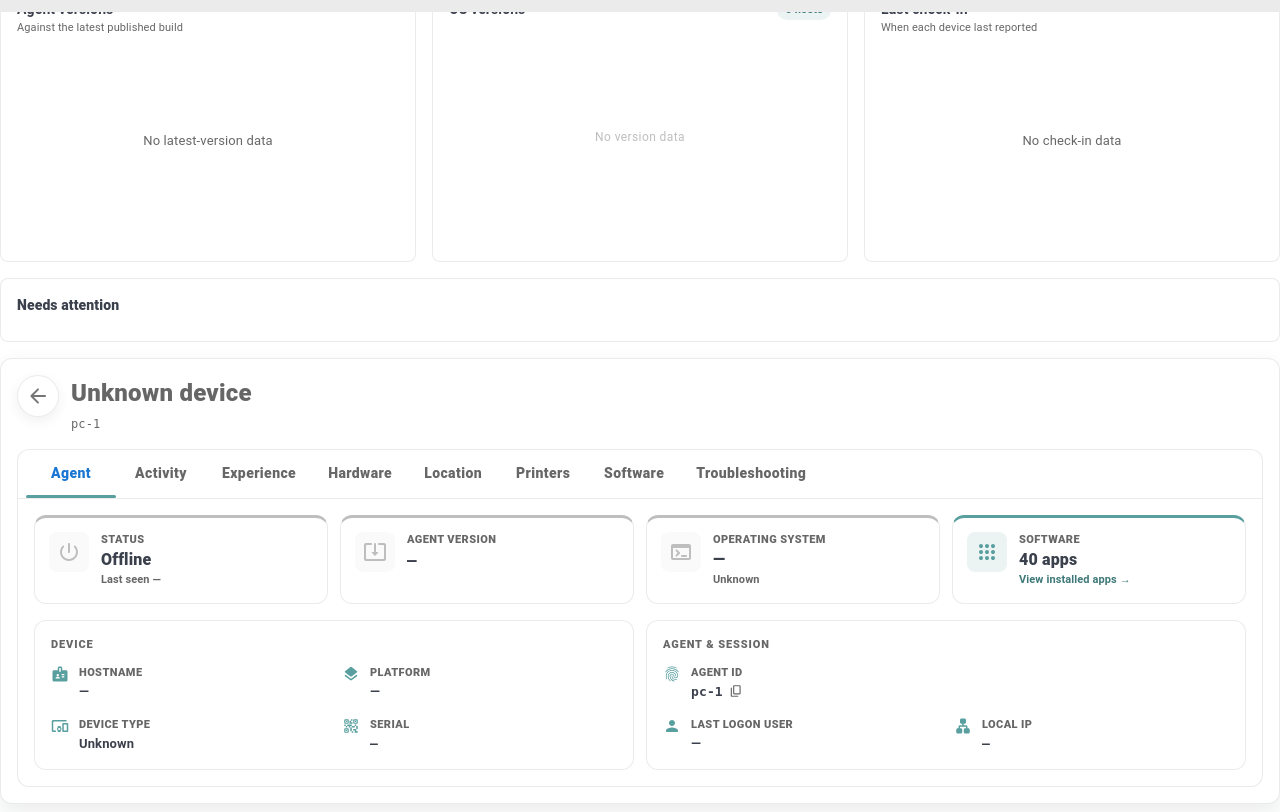
Test case: Ficha › Software — orden, búsqueda y 15 filas en el servidor › ⭐ la búsqueda viaja al servidor y el chip dice cuántas coinciden
(page scrolled)
Click the tab "Software". click: (634, 474)
box: [588,450,680,498]
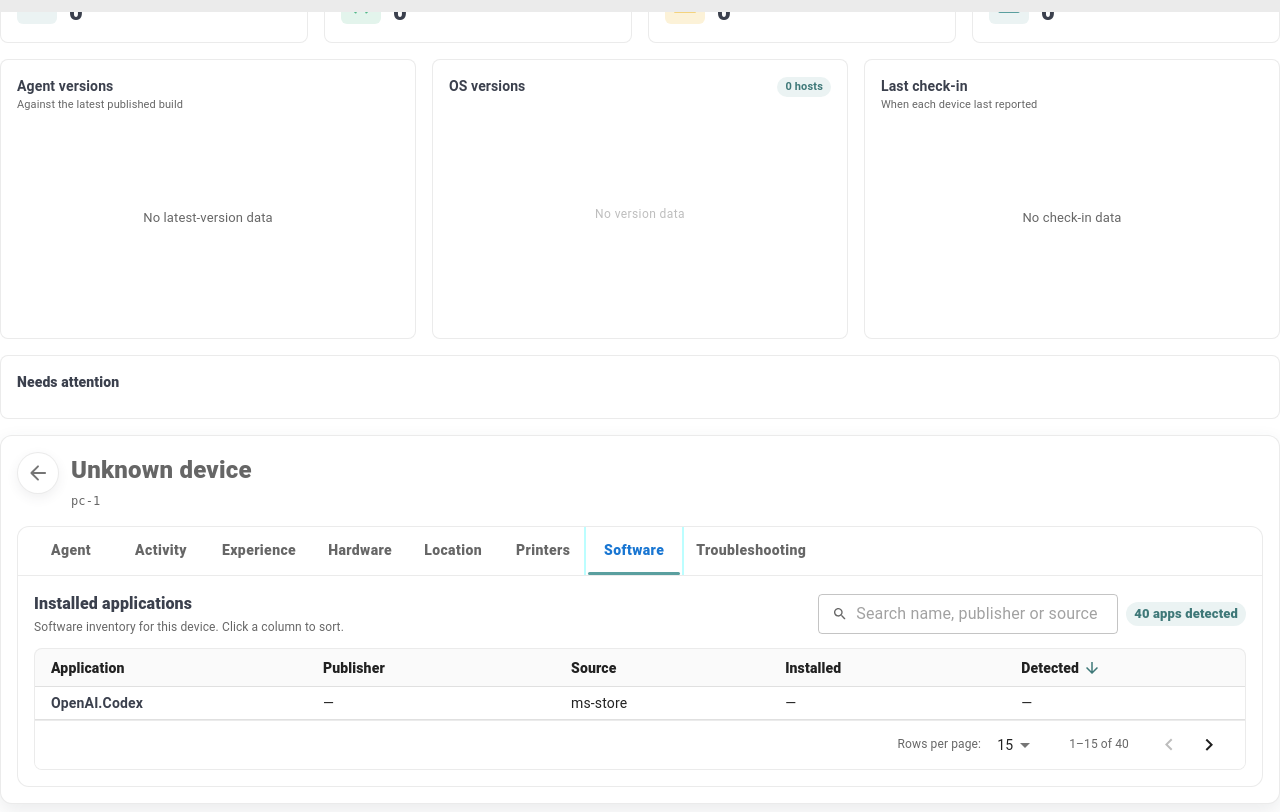
Now the table named "agent software table" is shown, box [35,649,1245,720]
Type "zoom" into the field named "Search installed applications". click: (987, 614)
box: [856,594,1118,634]
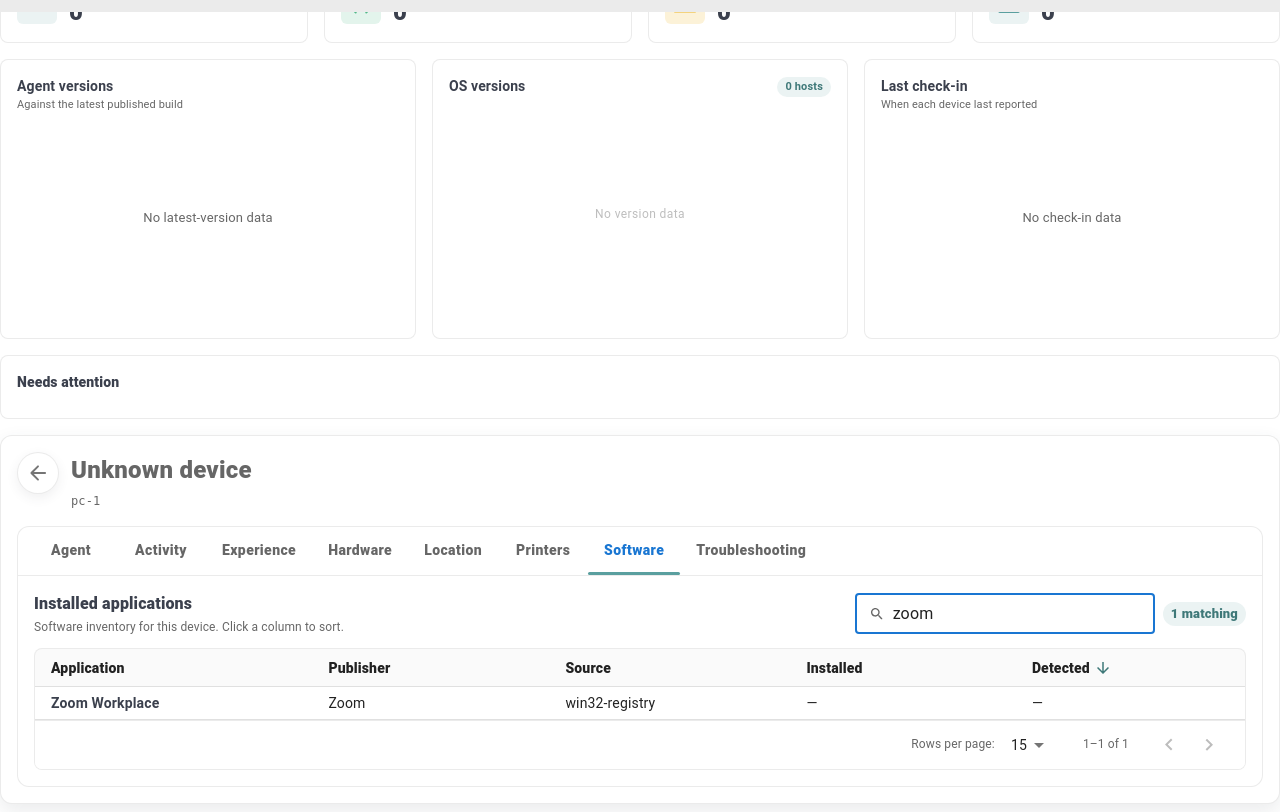
Now the text "Zoom Workplace" is shown, box [35,687,312,720]
Now the text "1 matching" is shown, box [1171,606,1238,621]
